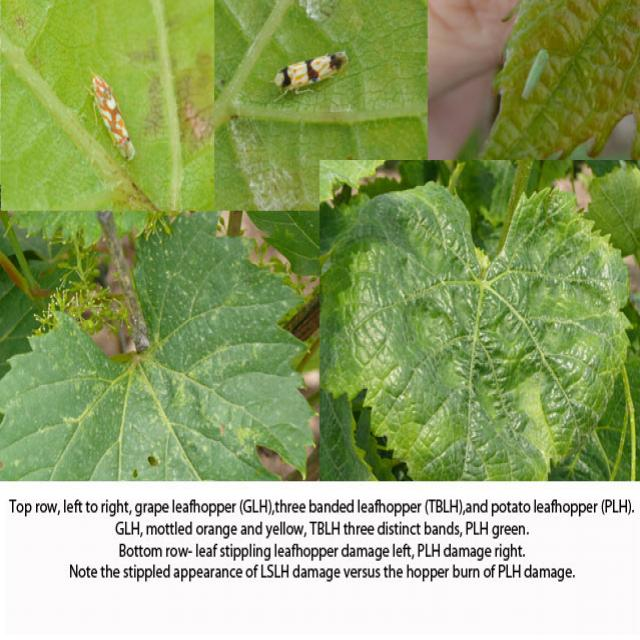Yechan: (262, 41, 368, 98), (84, 72, 133, 176), (524, 41, 551, 103)
